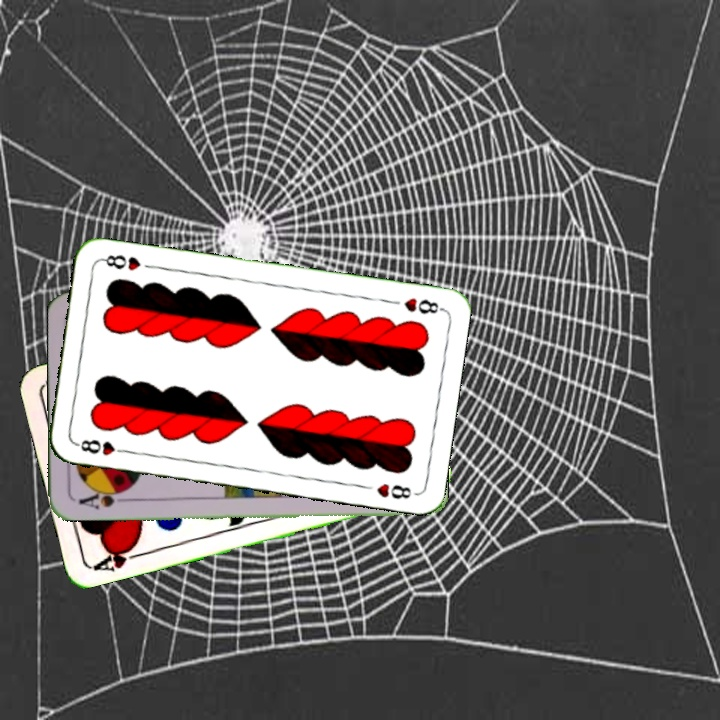H8: (72, 435, 131, 458), (400, 294, 445, 317)
HA: (90, 539, 148, 574)
SA: (74, 485, 131, 512)
